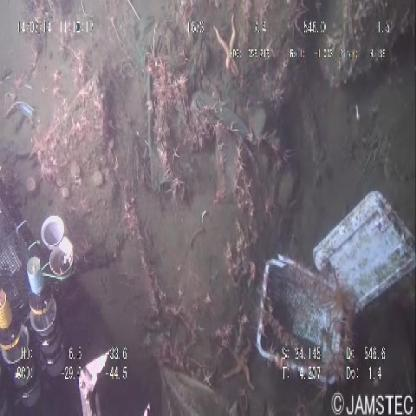Rov: (1, 140, 158, 416)
Rác: (250, 183, 416, 384)
